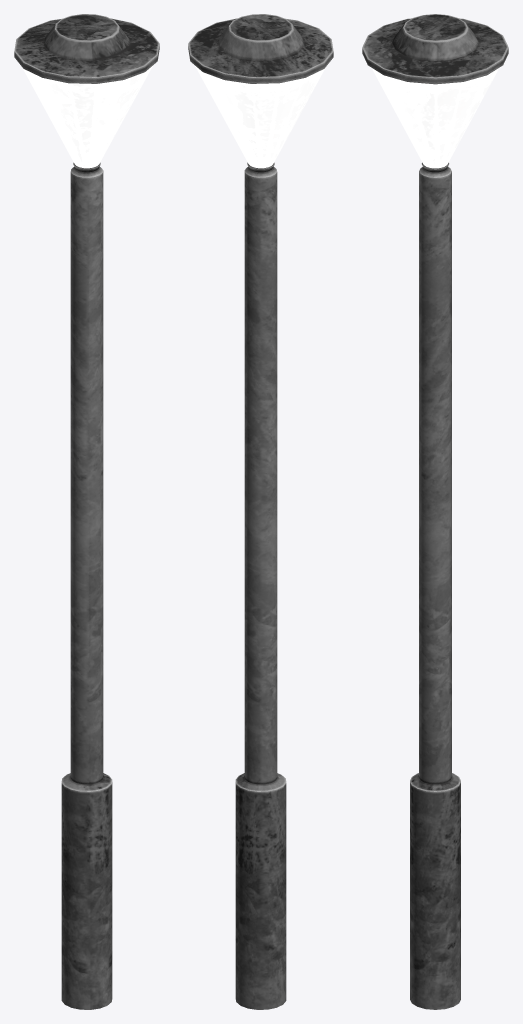
File: SM_CityProps_StreetLights_C.fbx
The picture shows the model from 3 angles, left to right: view 1: azimuth 30°, elevation 25°; view 2: azimuth 150°, elevation 25°; view 3: azimuth 270°, elevation 25°; orthographic projection.
Parts seen in each view (by area): view 1: SM_CityProps_StreetLights_C_LOD0; view 2: SM_CityProps_StreetLights_C_LOD0; view 3: SM_CityProps_StreetLights_C_LOD0.
Part boxes in pixels (left/top/right/bottom): SM_CityProps_StreetLights_C_LOD0: left=14, top=14, right=159, bottom=1009; SM_CityProps_StreetLights_C_LOD0: left=188, top=14, right=333, bottom=1009; SM_CityProps_StreetLights_C_LOD0: left=362, top=14, right=508, bottom=1009.
Size of the model in its own units: 42.83 by 42.83 by 313.
1 material, 1 textured.
